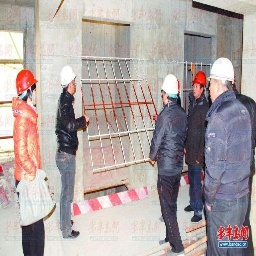helmet: (209, 56, 237, 81), (16, 68, 36, 96), (59, 66, 78, 93), (161, 74, 179, 99)
no-vest: (206, 91, 252, 200), (14, 103, 41, 178), (162, 110, 185, 174), (58, 93, 80, 153), (188, 99, 205, 164)
person: (203, 54, 249, 256), (11, 65, 52, 256), (152, 71, 186, 256), (54, 64, 87, 237), (185, 68, 208, 228)
